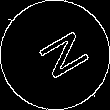N_SW: (23, 25, 87, 85)
